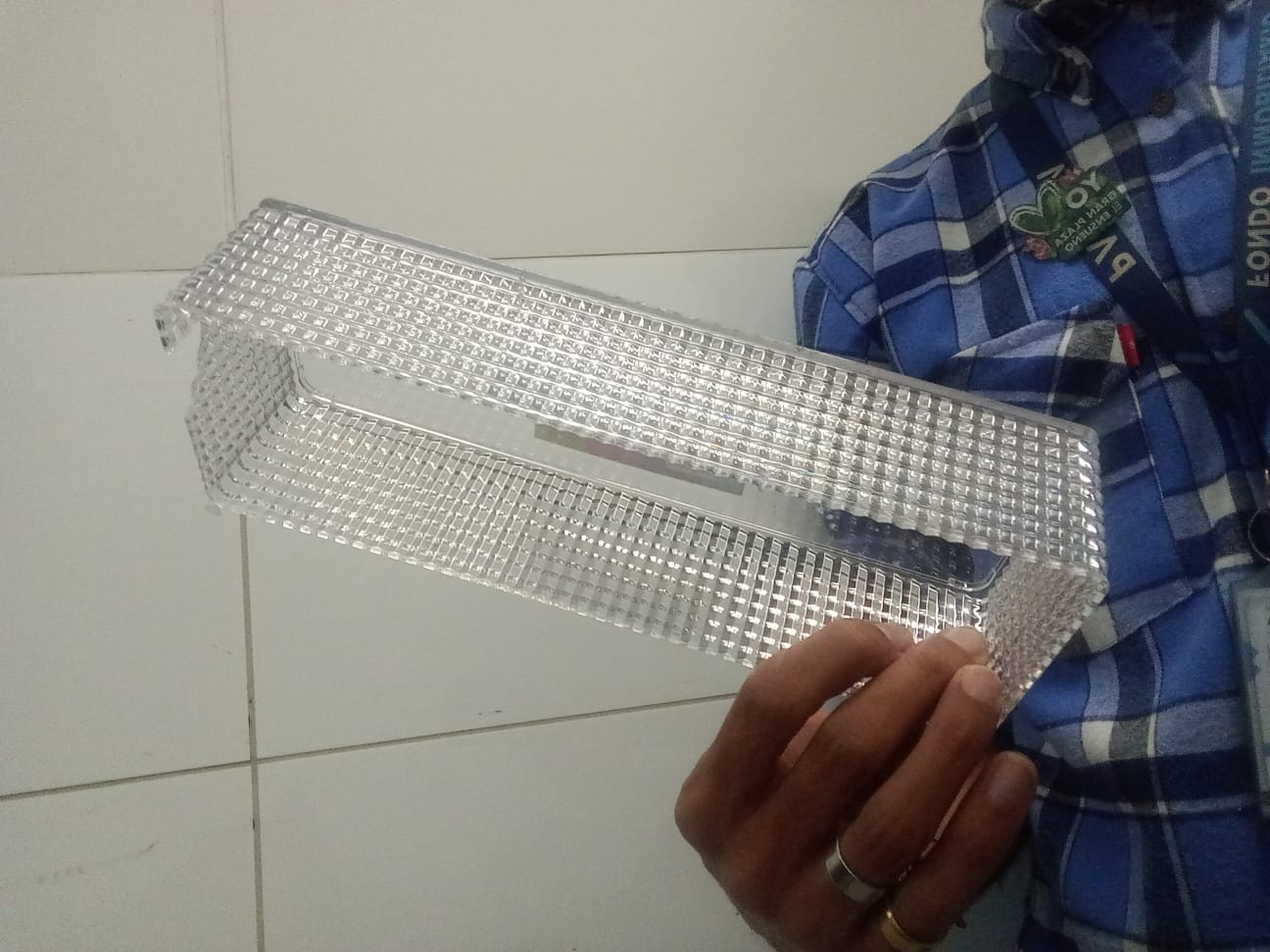Plastico: (154, 198, 1111, 724)
